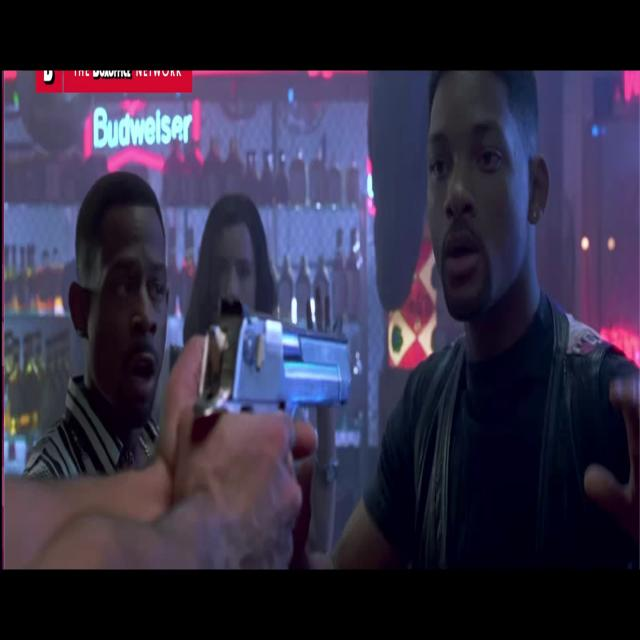weapons: (189, 294, 366, 534)
